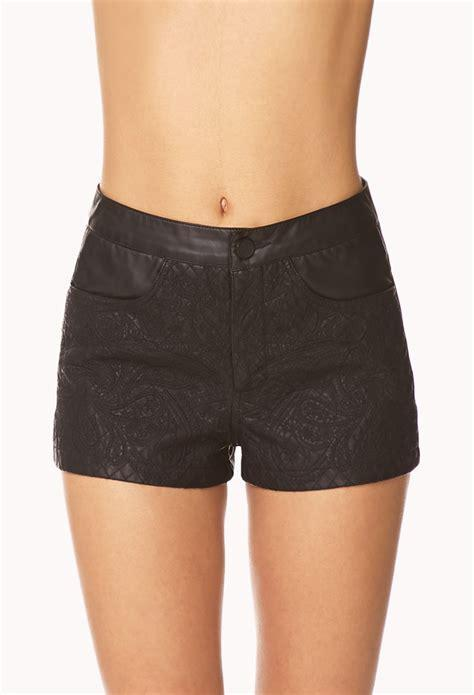short: (54, 182, 420, 492)
